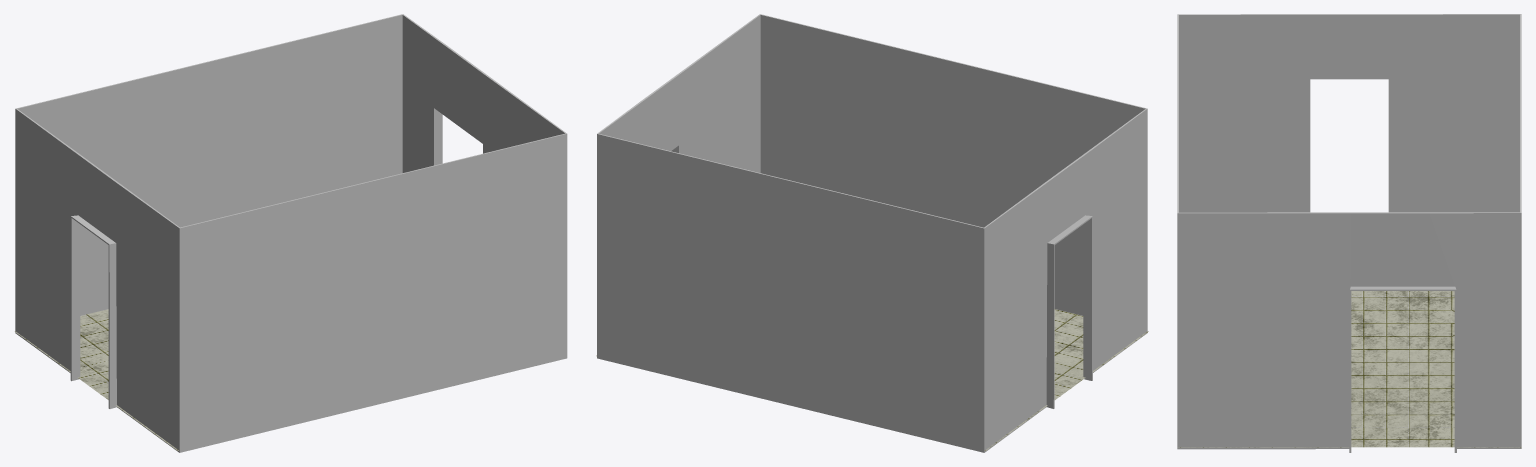
The model's file is Exit_Temp.fbx.
The picture shows the model from 3 angles, left to right: view 1: azimuth 30°, elevation 25°; view 2: azimuth 150°, elevation 25°; view 3: azimuth 270°, elevation 25°; orthographic projection. The views are drawn at different scales.
Parts seen in each view (by area): view 1: Walls.011, Plane.025; view 2: Walls.011, Plane.025; view 3: Walls.011, Plane.025.
Part boxes in pixels (<box>): Walls.011: <box>15,14,567,452</box>; Plane.025: <box>15,309,178,450</box>; Walls.011: <box>597,14,1147,452</box>; Plane.025: <box>596,309,1148,450</box>; Walls.011: <box>1177,14,1521,452</box>; Plane.025: <box>1178,291,1521,447</box>.
Bounding box in the file's own units: 793 × 423 × 559.
